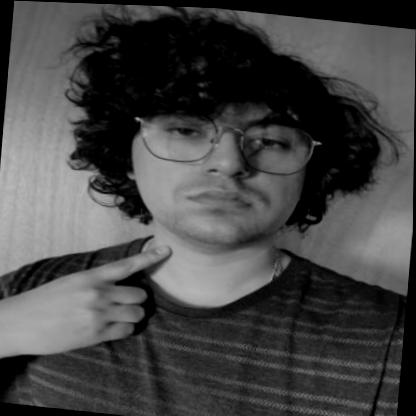Q: (23, 231, 174, 355)
